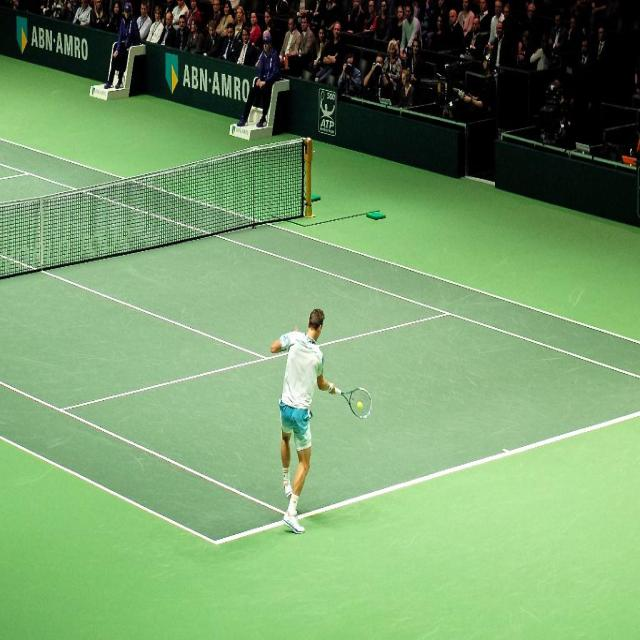Tennis ball: (356, 401, 362, 407)
